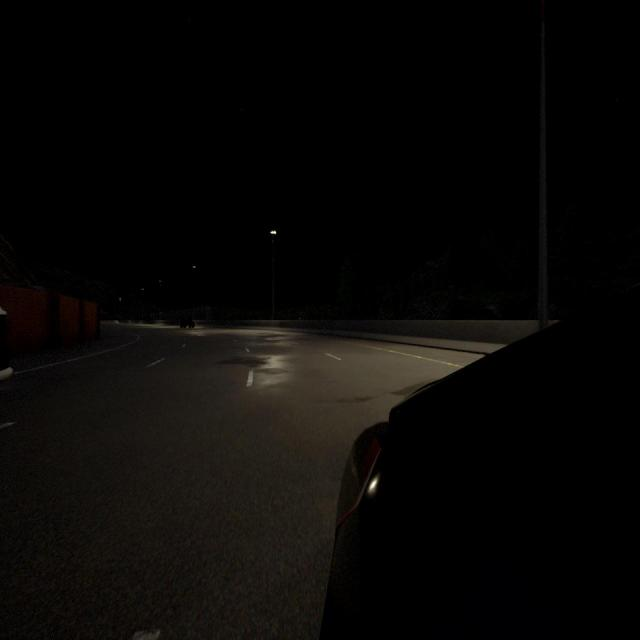Vehicle: (320, 285, 640, 637), (180, 317, 195, 328)
